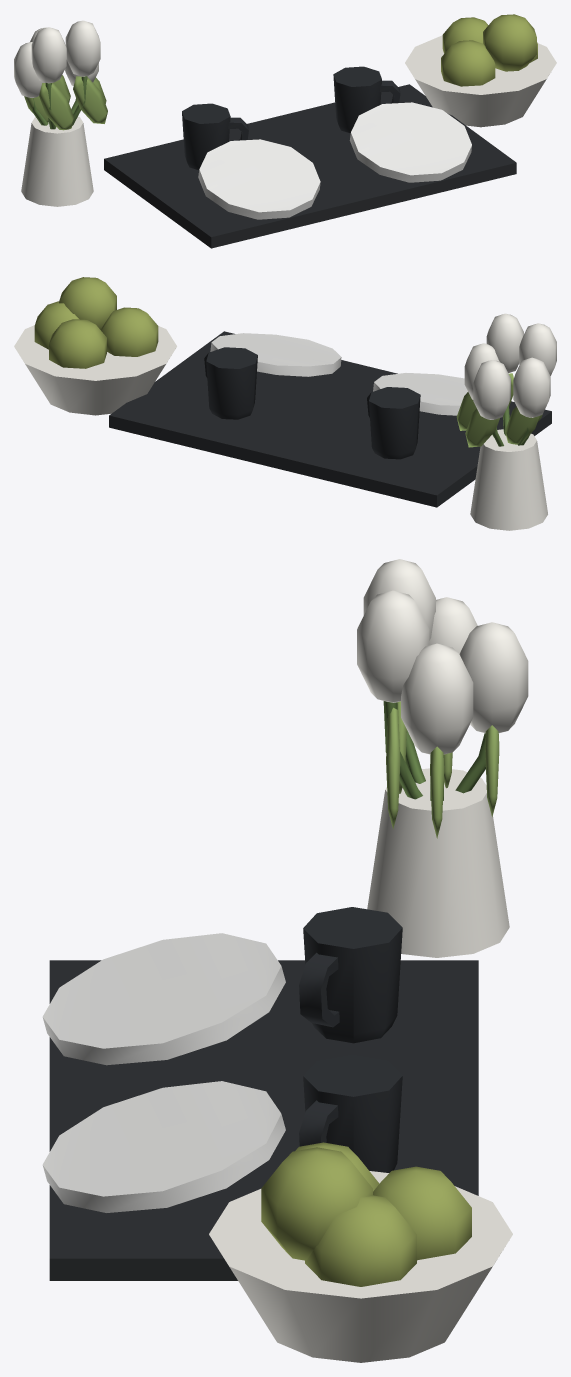
The model's file is kitchen_ref_breakfast.glb.
3 views of the same model, one above another, from view 1: azimuth 30°, elevation 25°; view 2: azimuth 150°, elevation 25°; view 3: azimuth 270°, elevation 25° (orthographic). The views are drawn at different scales.
Bounding box in the file's own units: 1.7 × 0.56 × 0.7024.
